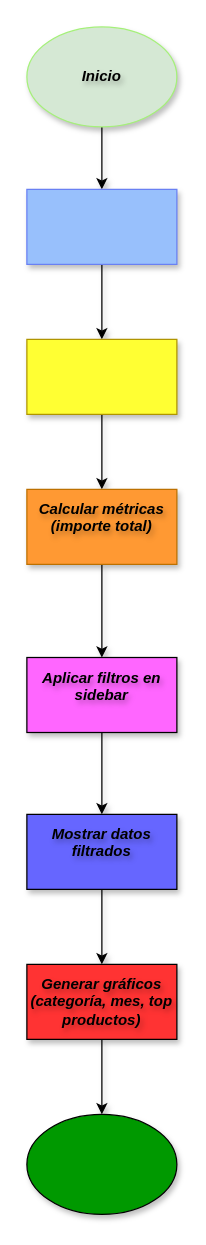
Image size: 206x1245. Some labels were removed from this diagram. Here are the shapes that lost their labels. From the top down, the centre of each, then its label:
At [102,228]: "Cargar archivos Excel".
At [102,378]: "Unificar datos con merge()".
At [102,1165]: "Fin".
